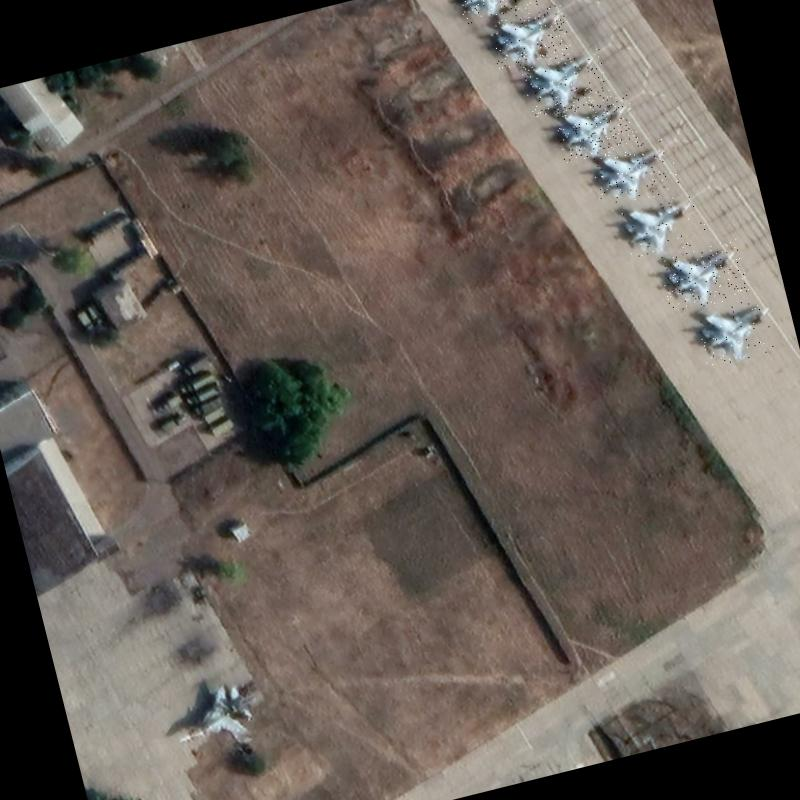A19: (162, 668, 270, 763), (657, 238, 751, 314), (616, 186, 710, 260), (694, 294, 783, 368), (588, 137, 680, 208), (520, 46, 612, 117), (552, 94, 640, 163), (486, 3, 573, 72), (452, 0, 541, 24)
